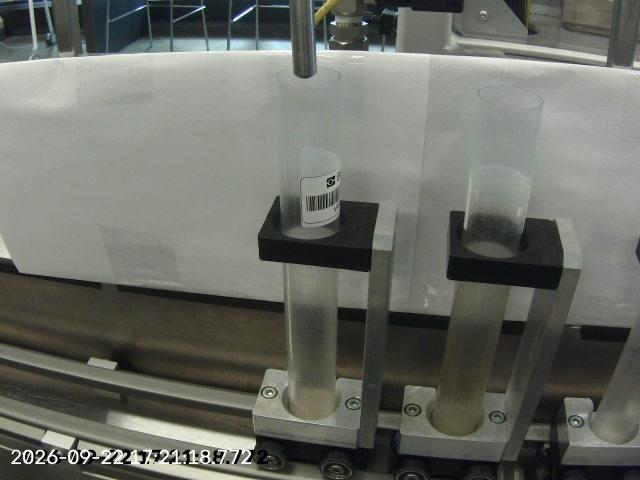vial: (429, 82, 545, 437), (271, 64, 343, 416)
